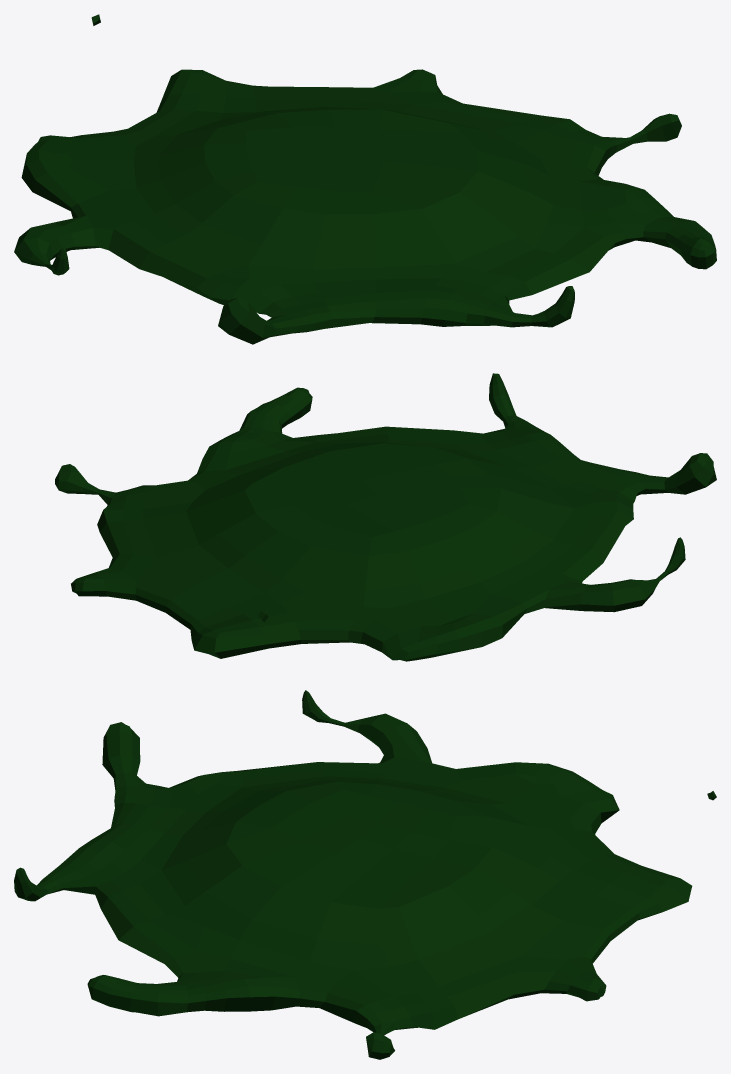
Rendered from splash_vert.FBX.
The picture shows the model from 3 angles, top to bottom: view 1: azimuth 30°, elevation 25°; view 2: azimuth 150°, elevation 25°; view 3: azimuth 270°, elevation 25°; orthographic projection. The views are drawn at different scales.
Parts seen in each view (by area): view 1: Fluid Domain.005; view 2: Fluid Domain.005; view 3: Fluid Domain.005.
Part boxes in pixels (x1,y1,x2,y2): Fluid Domain.005: (14,14,716,344); Fluid Domain.005: (55,373,716,661); Fluid Domain.005: (14,690,716,1059).
Size of the model in its own units: 216 by 210 by 29.23.
